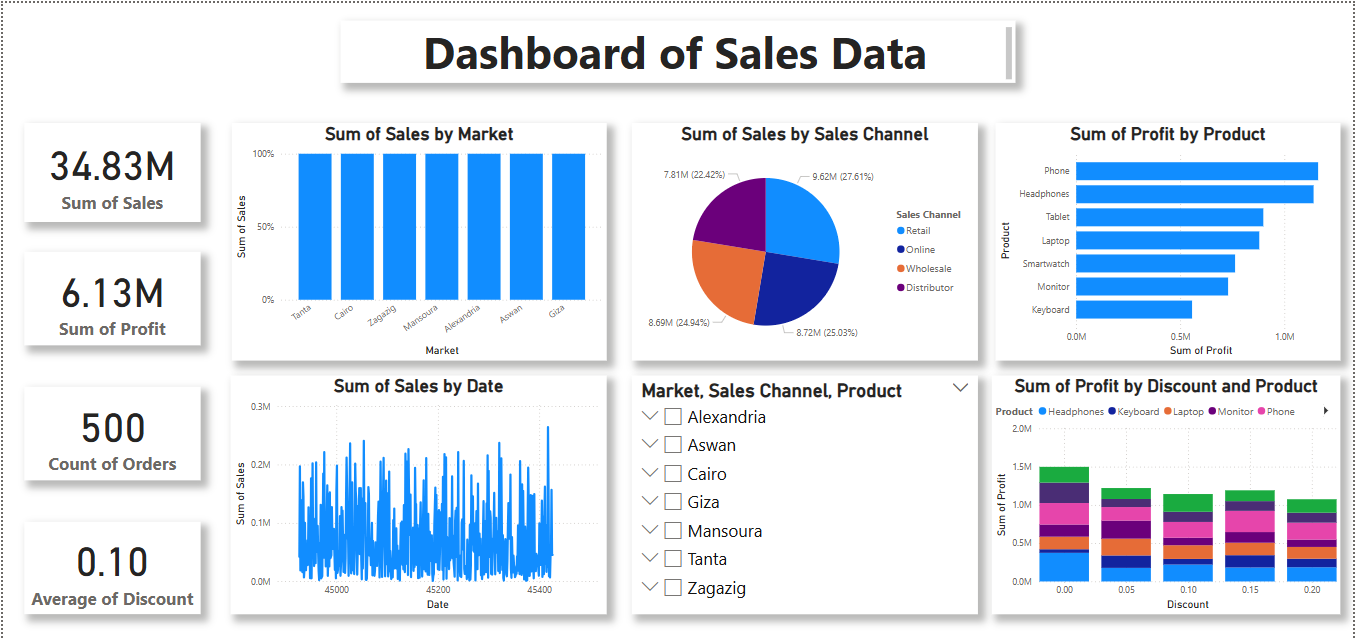

What the dashboard file says about the page in this screenshot:
{"tool":"powerbi","page":{"name":"Page 1","canvas":[1800,850],"ordinal":0},"visuals":[{"type":"card","fields":{"Values":["Sum(Sheet1.Sales)"]},"box":[28.3,160,235,131.7],"z":0},{"type":"card","title":"Sum of Profit","fields":{"Values":["Sum(Sheet1.Profit)"]},"box":[28.3,331.7,235,125],"z":1000},{"type":"card","title":"Count of Orders","fields":{"Values":["CountNonNull(Sheet1.Date)"]},"box":[28.3,511.7,235,125],"z":2000},{"type":"card","title":"Average of Discount","fields":{"Values":["Avg(Sheet1.Discount)"]},"box":[28.3,691.7,235,123.3],"z":3000},{"type":"hundredPercentStackedColumnChart","fields":{"Category":["Sheet1.Market"],"Y":["Sum(Sheet1.Sales)"]},"box":[305,160,500,316.7],"z":4000},{"type":"pieChart","fields":{"Category":["Sheet1.Sales Channel"],"Y":["Sum(Sheet1.Sales)"]},"box":[838.3,160.3,461.7,316.7],"z":5000},{"type":"barChart","fields":{"Y":["Sum(Sheet1.Profit)"],"Category":["Sheet1.Product"]},"box":[1323.3,160.3,460,316.7],"z":6000},{"type":"lineChart","fields":{"Category":["Sheet1.Date"],"Y":["Sum(Sheet1.Sales)"]},"box":[303.3,496.7,501.7,318.3],"z":7000},{"type":"slicer","fields":{"Values":["Sheet1.Market","Sheet1.Sales Channel","Sheet1.Product"]},"box":[838.3,497,461.7,318.3],"z":8000},{"type":"textbox","box":[450,23.3,900,83.3],"z":9000},{"type":"columnChart","fields":{"Category":["Sheet1.Discount"],"Y":["Sum(Sheet1.Profit)"],"Series":["Sheet1.Product"]},"box":[1318.3,496.7,465,318.3],"z":10000}]}

Visuals, with their boxes in screenshot pixels (x1, y1, x2, y2), scaled from the page's 1800x850 canvas onto the 1355x639 screenshot:
card - Sum(Sheet1.Sales): 21, 120, 198, 219
"Sum of Profit" card: 21, 249, 198, 343
"Count of Orders" card: 21, 385, 198, 479
"Average of Discount" card: 21, 520, 198, 613
hundredPercentStackedColumnChart - Sheet1.Market x Sum(Sheet1.Sales): 230, 120, 606, 358
pieChart - Sheet1.Sales Channel x Sum(Sheet1.Sales): 631, 121, 979, 359
barChart - Sum(Sheet1.Profit) x Sheet1.Product: 996, 121, 1342, 359
lineChart - Sheet1.Date x Sum(Sheet1.Sales): 228, 373, 606, 613
slicer - Sheet1.Market x Sheet1.Sales Channel: 631, 374, 979, 613
textbox: 339, 18, 1016, 80
columnChart - Sheet1.Discount x Sum(Sheet1.Profit): 992, 373, 1342, 613
